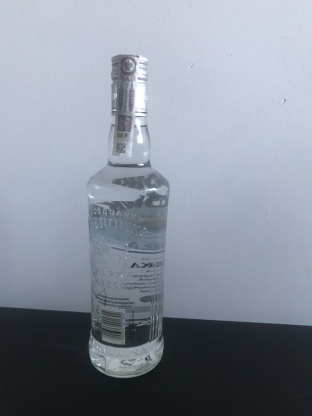nakretka: (108, 50, 150, 119)
